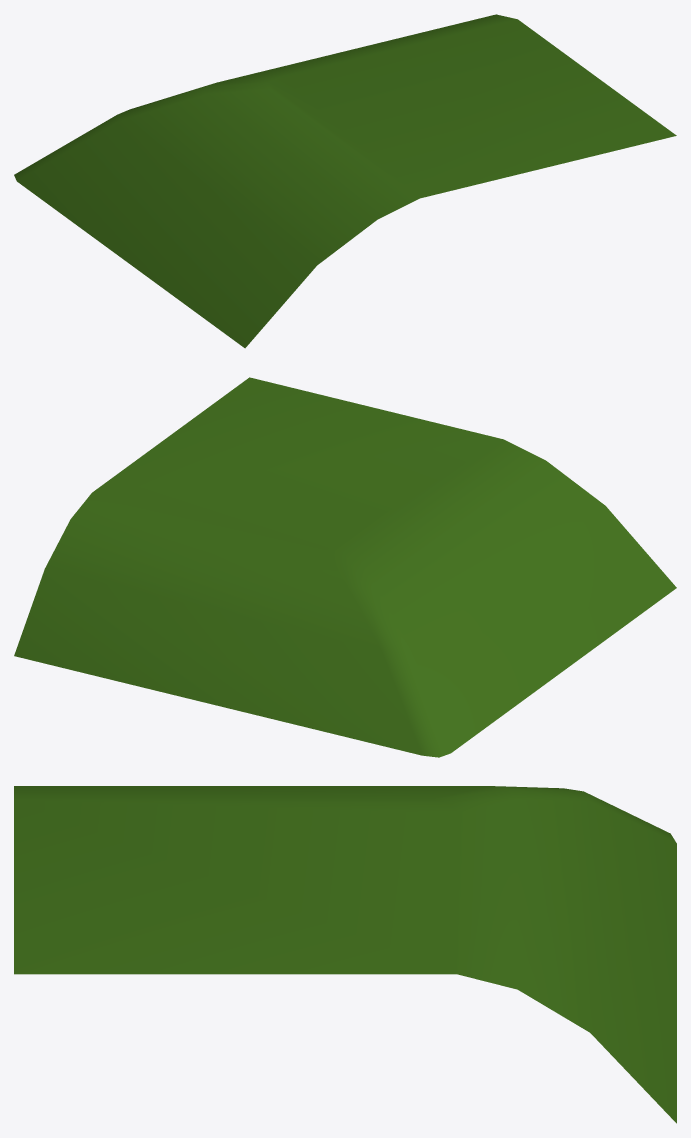
The model's file is Ground1_4.fbx.
3 renders of one model, top to bottom at view 1: azimuth 30°, elevation 25°; view 2: azimuth 150°, elevation 25°; view 3: azimuth 270°, elevation 25°, orthographic. The views are drawn at different scales.
Parts seen in each view (by area): view 1: Ground1_4; view 2: Ground1_4; view 3: Ground1_4.
Boxes of the visible parts, x1,y1,x2,y2 form: Ground1_4: (14, 14, 676, 348); Ground1_4: (14, 377, 676, 757); Ground1_4: (14, 786, 676, 1123).
Bounding box in the file's own units: 546 × 130 × 522.
